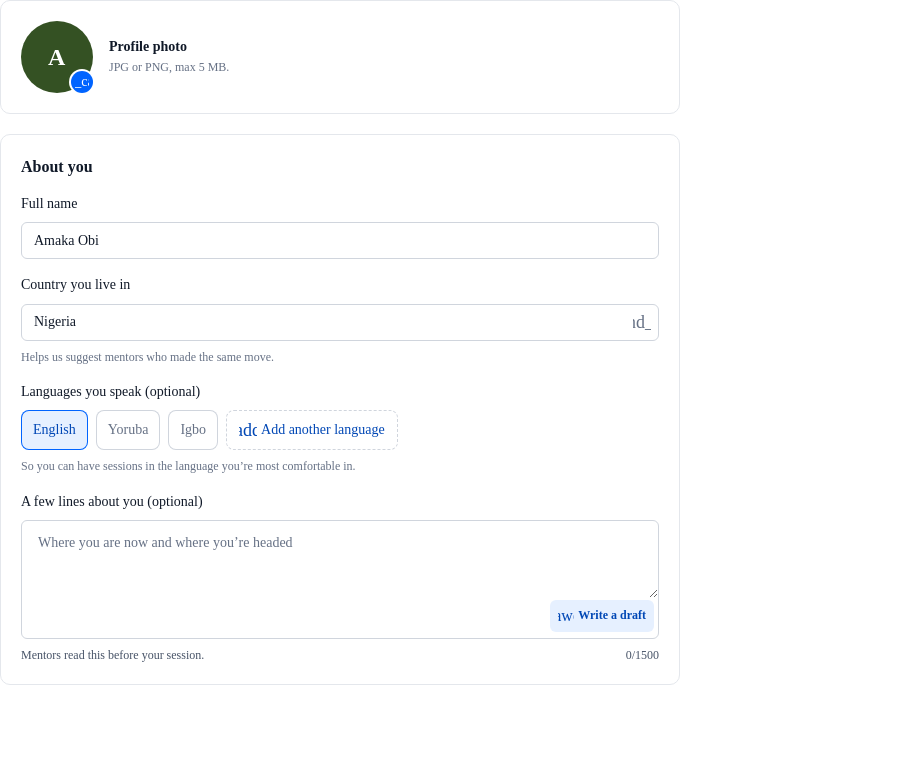
Test: ProfilePanel › no save bar until something changes; Discard puts the saved values back
Expected: the element "Unsaved changes" is not shown
Replace the text in the field labelled "Full name" with "Amaka N. Obi": (340, 241) [21, 222, 659, 260]
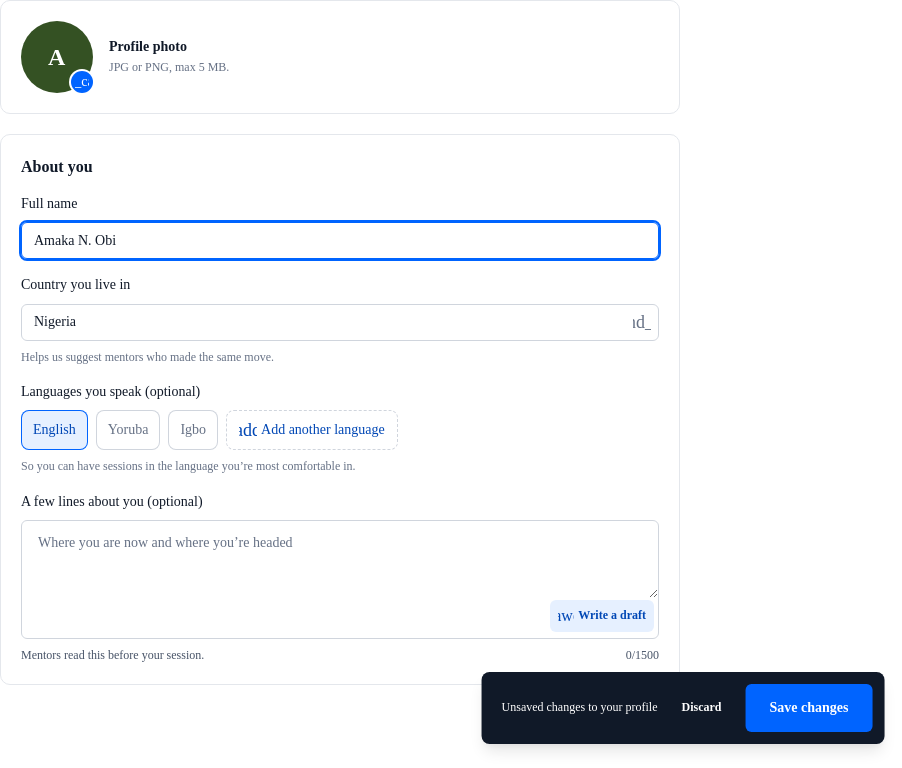
Result: the element "Unsaved changes" shows "Unsaved changes to your profile" at [502, 700, 658, 714]
Click the button "Discard": (702, 708) [674, 699, 730, 717]
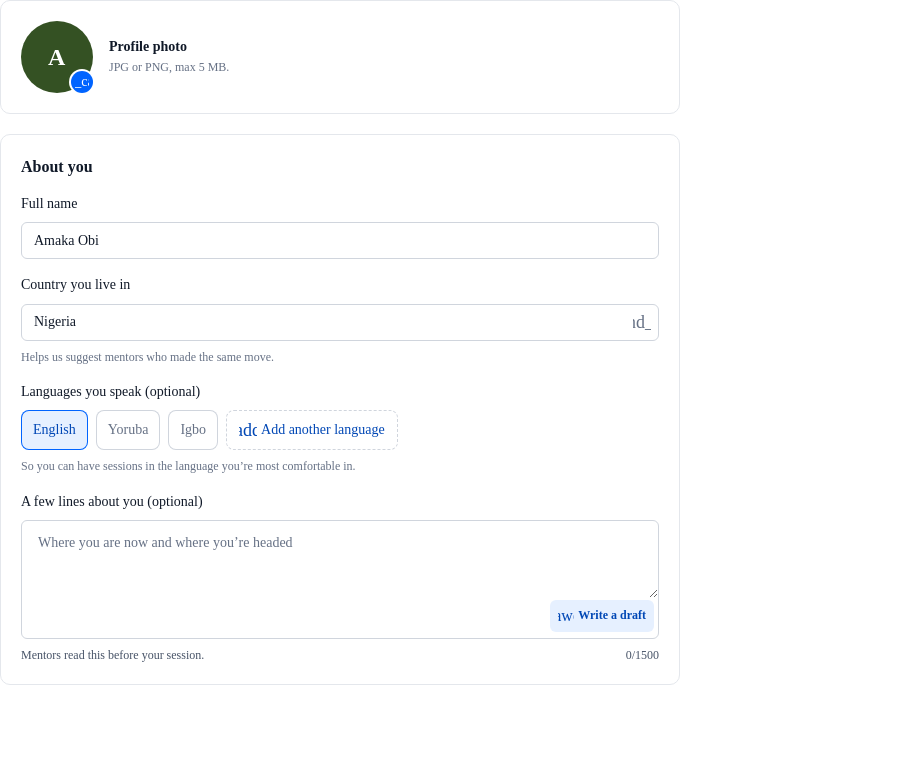
Result: the field labelled "Full name" holds "Amaka Obi" at [21, 222, 659, 260]
Result: the text "Unsaved changes" is gone
